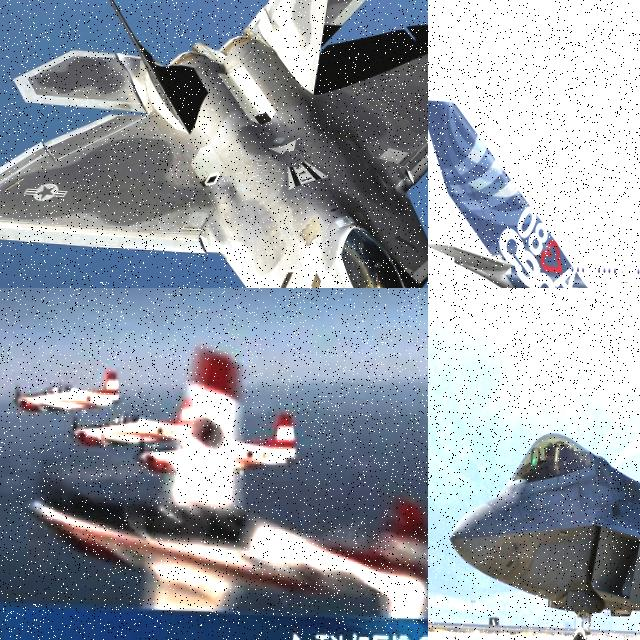A380: (428, 100, 640, 288)
F22: (0, 0, 428, 288), (444, 314, 640, 640)
KT-1: (18, 343, 428, 640), (132, 404, 304, 488), (70, 397, 216, 452), (6, 369, 124, 427)
